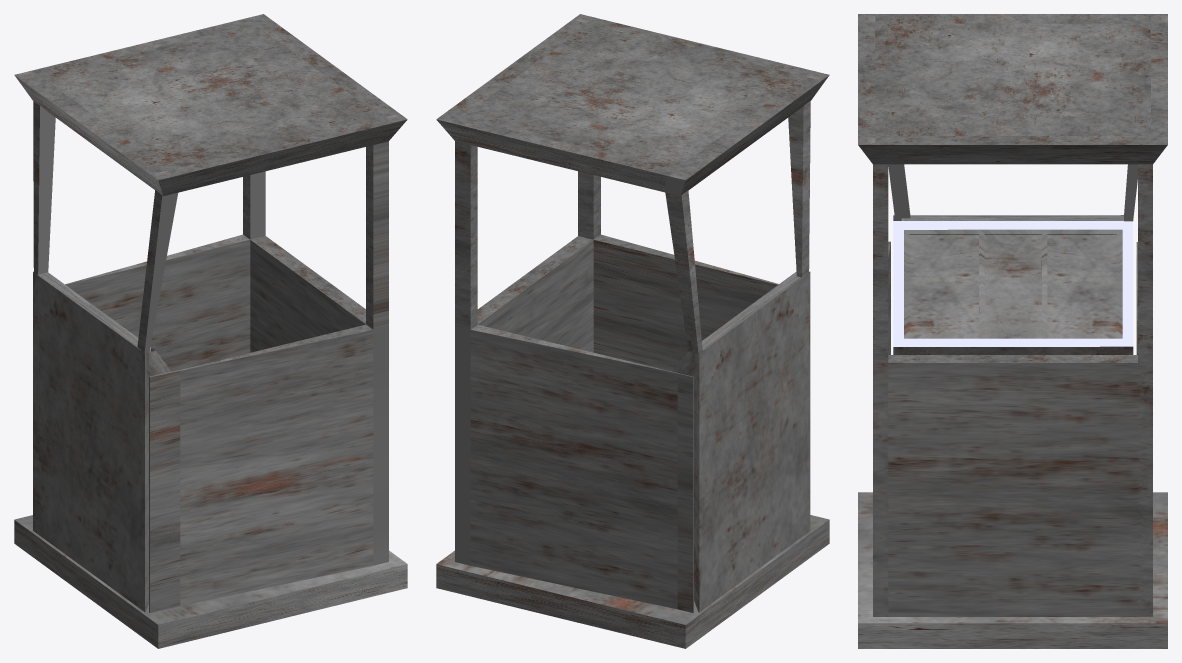
File: cabina.glb
3 renders of one model, left to right at view 1: azimuth 30°, elevation 25°; view 2: azimuth 150°, elevation 25°; view 3: azimuth 270°, elevation 25°, orthographic. The views are drawn at different scales.
Parts seen in each view (by area): view 1: Cube.005, Cube, Cube.004; view 2: Cube.005, Cube, Cube.004; view 3: Cube.005, Cube, Cube.004.
Part boxes in pixels (x1,y1,x2,y2): Cube.005: [14, 14, 407, 612]; Cube: [33, 271, 171, 612]; Cube.004: [14, 515, 407, 648]; Cube.005: [436, 14, 829, 612]; Cube: [672, 271, 810, 612]; Cube.004: [436, 515, 829, 648]; Cube.005: [858, 14, 1167, 616]; Cube: [893, 215, 1133, 354]; Cube.004: [858, 492, 1167, 648].
Bounding box in the file's own units: 2 × 3.59 × 2.
Materials: 3 (2 with a texture image).
